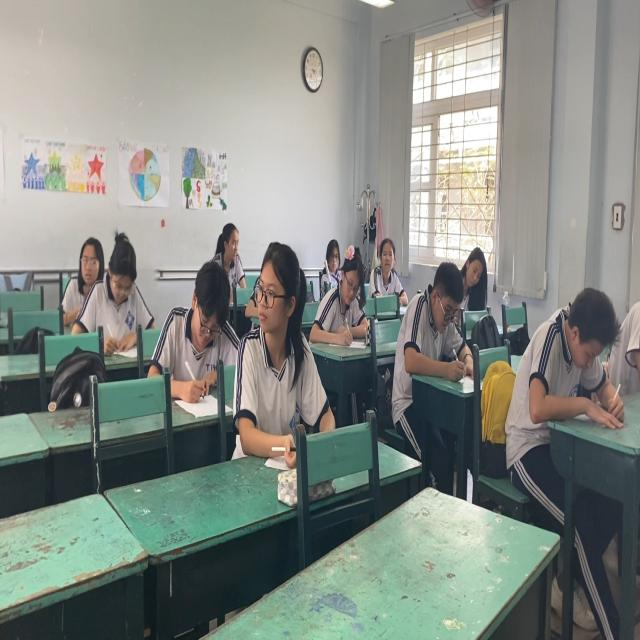cheating: (243, 226, 312, 447)
not_cheating: (518, 284, 619, 409), (164, 261, 239, 367), (95, 226, 157, 343), (408, 261, 468, 377), (328, 236, 373, 361), (365, 226, 408, 298), (457, 236, 493, 316), (64, 229, 98, 301), (212, 226, 250, 288), (318, 232, 349, 285)
